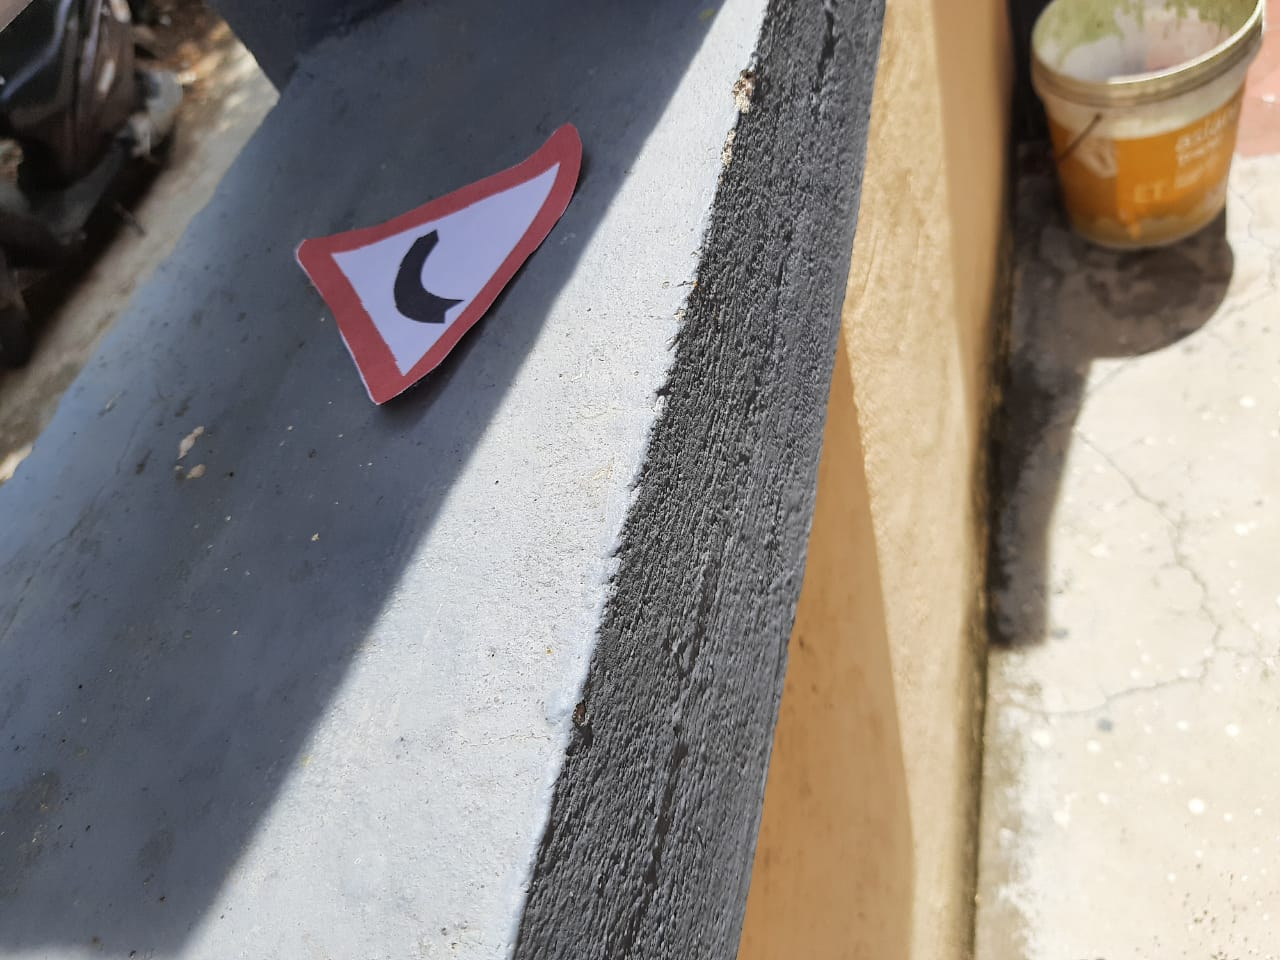RIGHT CURVE: (285, 109, 613, 400)
